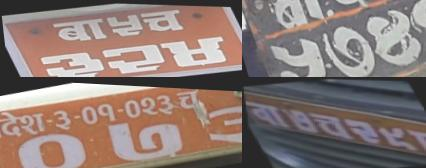0: (9, 120, 91, 168), (121, 93, 144, 119), (77, 99, 99, 124)
1: (404, 0, 426, 59), (93, 95, 119, 122)
2: (95, 37, 166, 76), (338, 113, 382, 146), (318, 0, 376, 18), (137, 90, 160, 115)
3: (196, 88, 242, 151), (29, 44, 107, 77), (48, 104, 76, 132), (153, 87, 177, 115)
4: (362, 3, 425, 72), (154, 30, 241, 70)
5: (264, 30, 332, 77), (101, 10, 148, 39)
7: (102, 103, 190, 167), (315, 18, 380, 77), (276, 103, 320, 136)
8: (402, 123, 426, 157)
9: (372, 122, 419, 154)
ba: (260, 0, 328, 35), (44, 14, 112, 46), (244, 97, 289, 132)
cha: (303, 105, 352, 143), (136, 5, 191, 35), (174, 85, 205, 111)
